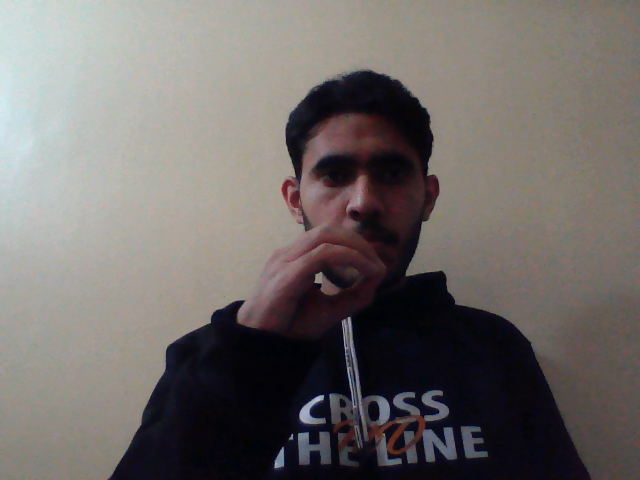O: (234, 220, 391, 343)
